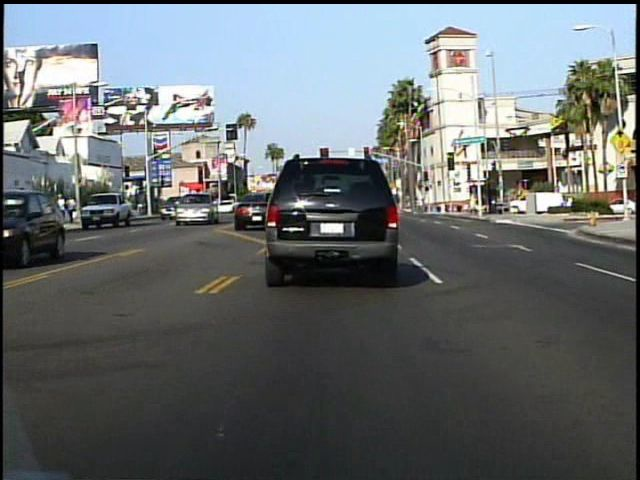person: (167, 192, 182, 223)
